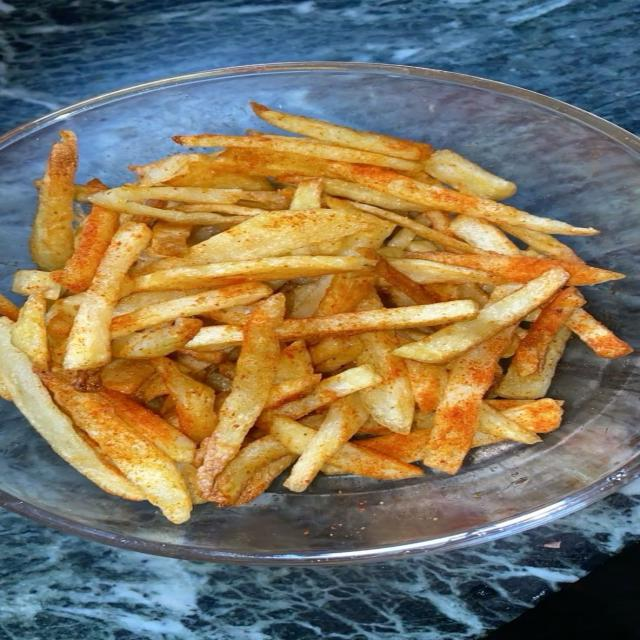potato fries: (0, 104, 631, 522), (0, 318, 145, 500), (43, 374, 192, 523), (332, 163, 597, 235), (199, 295, 284, 498), (395, 268, 568, 363), (424, 329, 513, 473), (64, 223, 151, 369), (284, 394, 410, 492), (252, 103, 431, 160), (187, 209, 376, 262), (174, 135, 420, 171), (111, 283, 271, 338), (134, 256, 373, 291), (278, 300, 478, 340), (412, 252, 624, 285), (512, 288, 586, 376), (103, 391, 195, 461), (31, 131, 77, 270), (355, 204, 480, 253), (357, 332, 415, 433), (52, 205, 119, 292), (278, 366, 382, 419), (496, 325, 571, 398), (153, 358, 216, 442), (214, 435, 289, 505), (425, 150, 515, 199), (112, 318, 202, 358), (328, 443, 422, 479), (567, 309, 633, 358), (500, 223, 582, 262), (390, 258, 502, 284), (450, 215, 520, 255), (12, 294, 48, 370), (129, 154, 199, 186), (266, 374, 321, 409), (100, 359, 154, 394), (274, 341, 313, 382), (151, 220, 191, 256), (13, 270, 61, 299), (290, 178, 322, 209), (0, 295, 19, 320)
